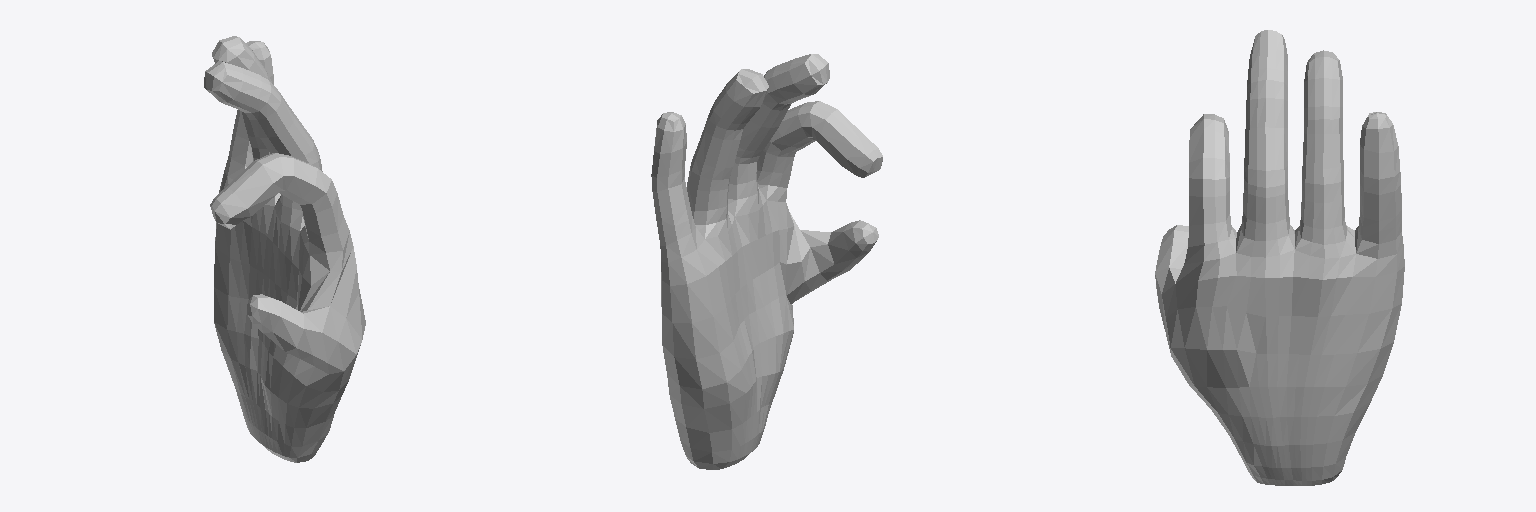
Rendered from hand.obj.
The picture shows the model from 3 angles: view 1: azimuth 30°, elevation 25°; view 2: azimuth 150°, elevation 25°; view 3: azimuth 270°, elevation 25°; orthographic projection.
Visible parts, largest first — view 1: Hand_Low_Poly_Cube.003; view 2: Hand_Low_Poly_Cube.003; view 3: Hand_Low_Poly_Cube.003.
Part boxes in pixels (left/top/right/bottom): Hand_Low_Poly_Cube.003: left=204, top=36, right=365, bottom=462; Hand_Low_Poly_Cube.003: left=651, top=54, right=882, bottom=469; Hand_Low_Poly_Cube.003: left=1155, top=30, right=1404, bottom=485.
Bounding box in the file's own units: 1.82 × 4.62 × 2.52.